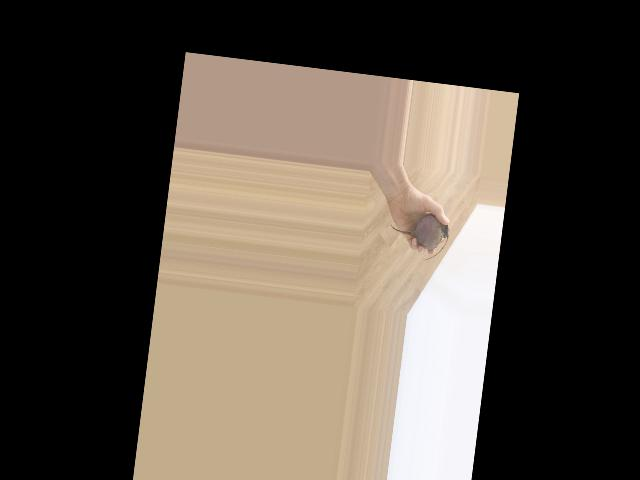beet: (387, 209, 451, 263)
